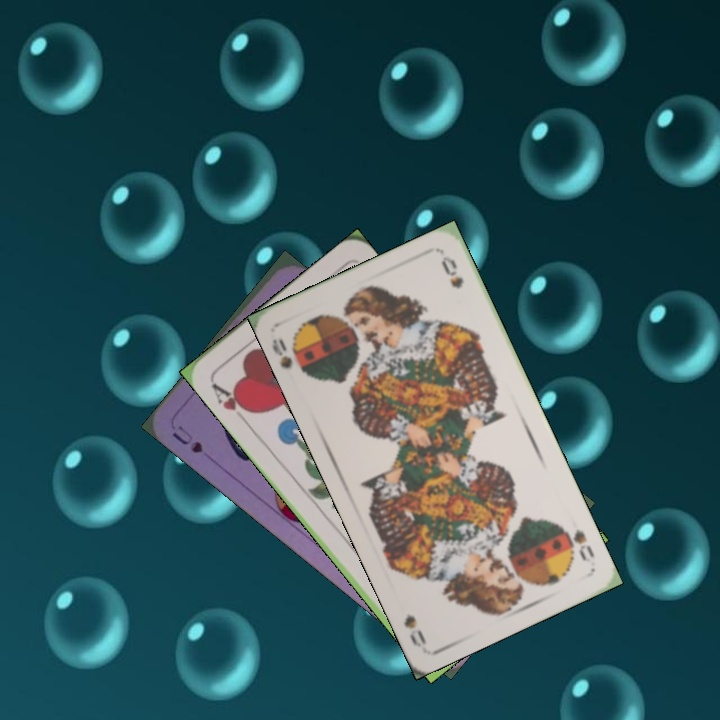HA: (206, 377, 257, 426)
SO: (267, 334, 312, 379), (557, 520, 597, 565)
SU: (168, 421, 206, 456)
